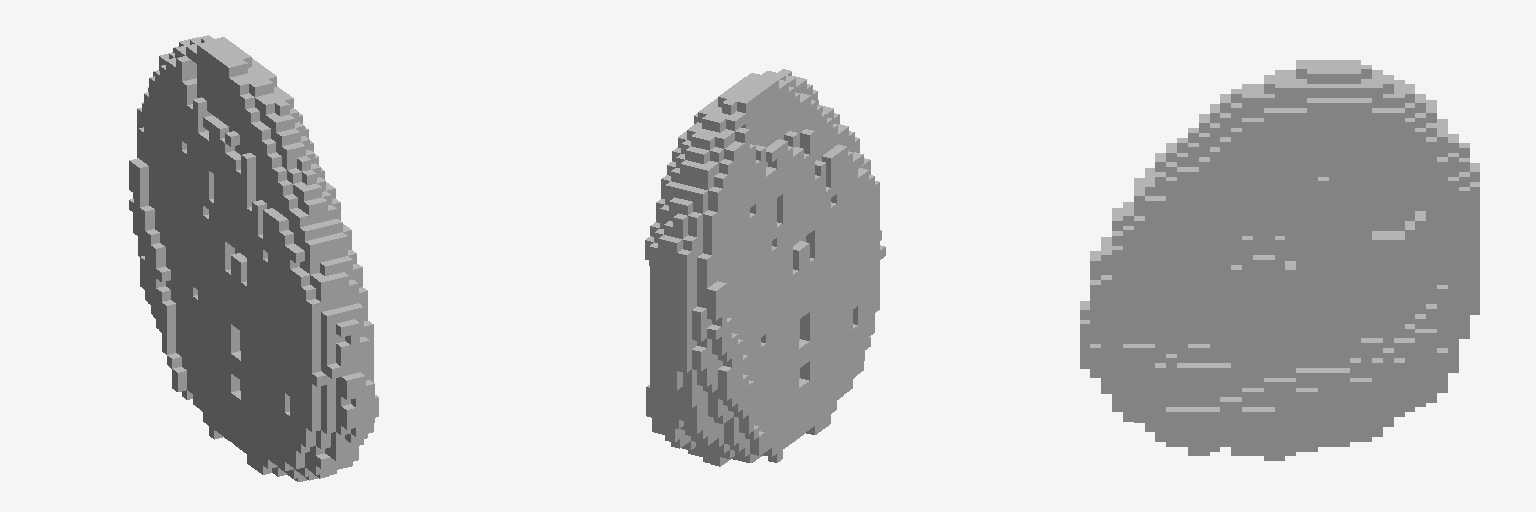
File: 1imotenn.obj
The picture shows the model from 3 angles: view 1: azimuth 30°, elevation 25°; view 2: azimuth 150°, elevation 25°; view 3: azimuth 270°, elevation 25°; orthographic projection.
Visible parts, largest first — view 1: object 1; view 2: object 1; view 3: object 1.
Boxes of the visible parts, x1,y1,x2,y2 form: object 1: [129, 35, 378, 481]; object 1: [645, 69, 885, 466]; object 1: [1080, 60, 1479, 460].
Size of the model in its own units: 0.8 by 3.8 by 3.7.